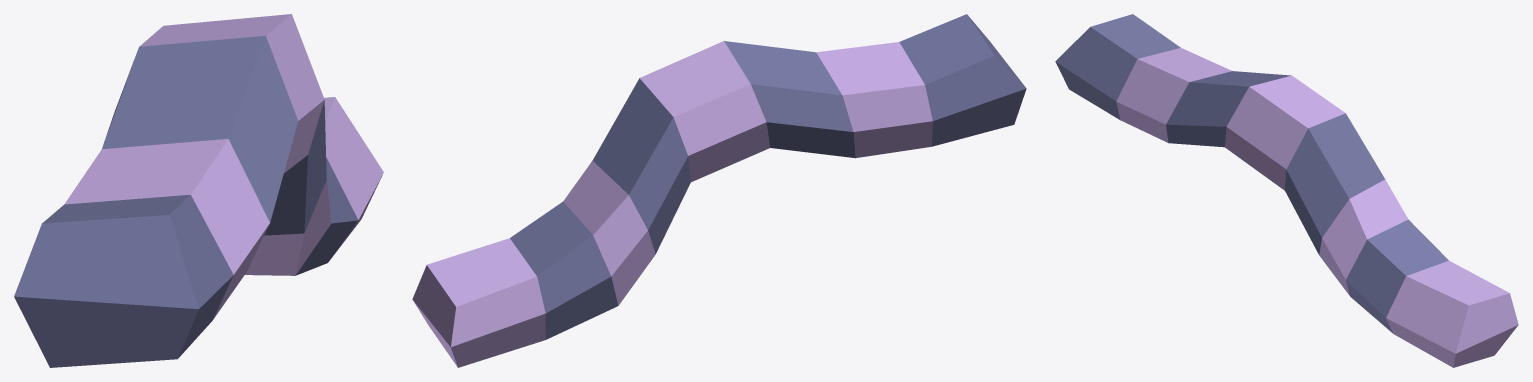
The model's file is Backyard_Caterpillar.fbx.
3 renders of one model, left to right at view 1: azimuth 30°, elevation 25°; view 2: azimuth 150°, elevation 25°; view 3: azimuth 270°, elevation 25°, orthographic. The views are drawn at different scales.
Parts seen in each view (by area): view 1: Backyard_Caterpillar; view 2: Backyard_Caterpillar; view 3: Backyard_Caterpillar.
Part boxes in pixels (x1,y1,x2,y2): Backyard_Caterpillar: [14, 14, 383, 367]; Backyard_Caterpillar: [412, 14, 1026, 367]; Backyard_Caterpillar: [1055, 14, 1518, 367].
Size of the model in its own units: 5.91 by 3.4 by 6.58.
